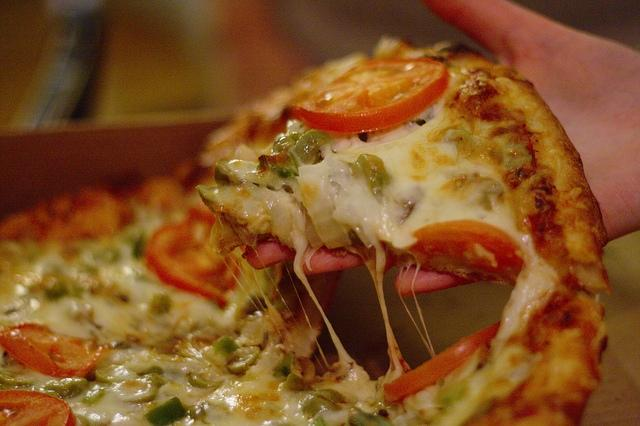bell pepper: (282, 374, 392, 426), (339, 154, 392, 203), (29, 267, 86, 302), (296, 128, 341, 166), (255, 151, 301, 178), (143, 396, 186, 424), (44, 376, 88, 400), (434, 379, 470, 408), (90, 246, 121, 266), (125, 233, 147, 260), (0, 370, 33, 388), (212, 336, 239, 358), (188, 372, 225, 388), (270, 136, 296, 155), (82, 382, 104, 404), (150, 293, 171, 316), (281, 350, 295, 378)
mushroom: (195, 182, 272, 248), (112, 373, 167, 406), (387, 180, 421, 225), (302, 389, 346, 420), (474, 176, 505, 214), (226, 346, 260, 374), (238, 319, 268, 348), (215, 160, 242, 186), (296, 356, 316, 386), (148, 292, 170, 318)
tomato: (281, 58, 448, 134), (146, 206, 240, 307), (384, 322, 499, 404), (0, 186, 135, 242), (412, 220, 522, 274), (0, 322, 102, 377), (0, 389, 76, 426), (130, 178, 185, 213)
